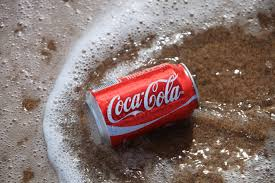coke: (92, 60, 199, 144)
